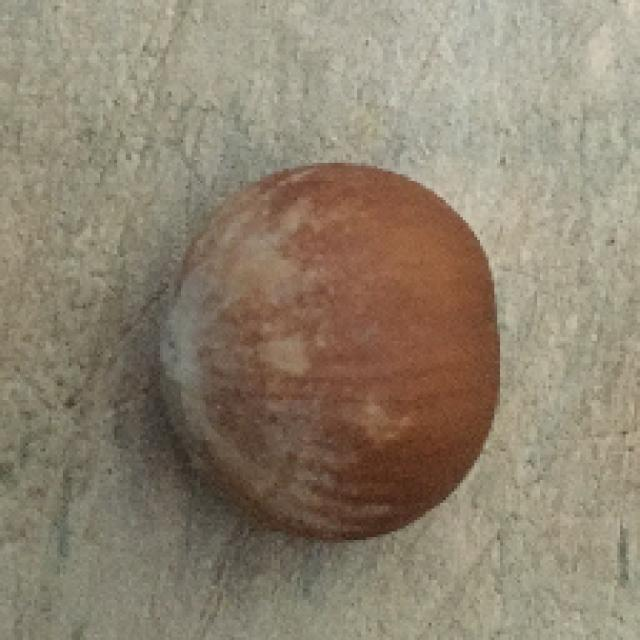QualityHazelnut: (157, 165, 504, 547)
